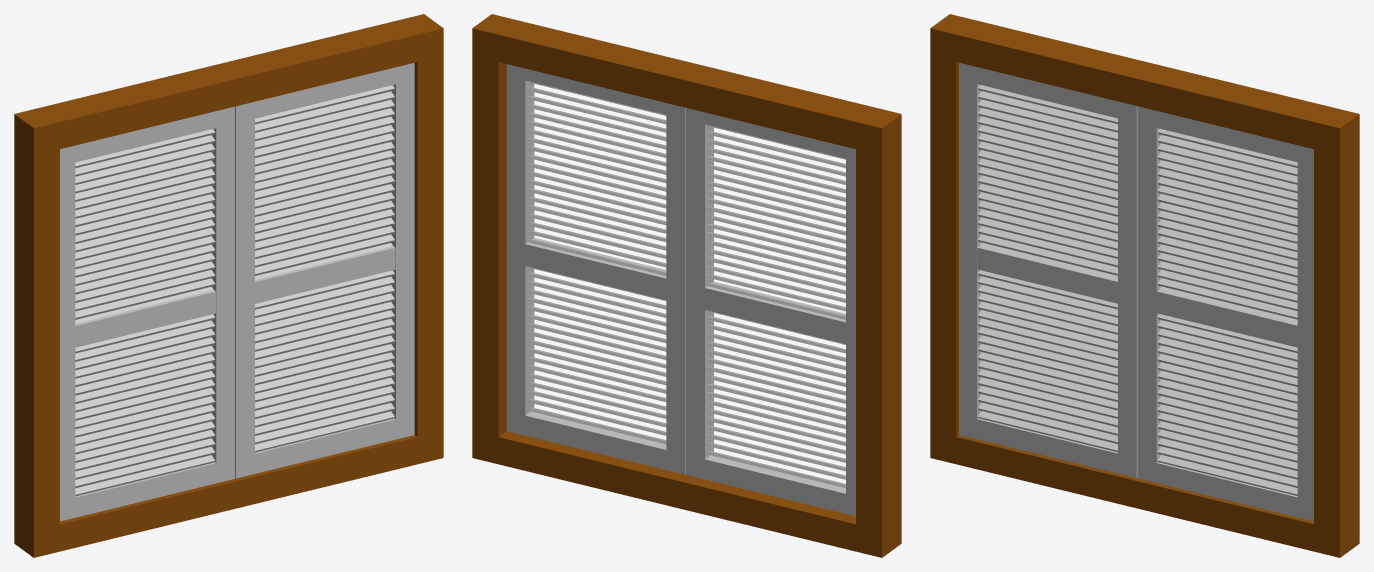
File: Persiane.fbx
3 views of the same model, side by side, from view 1: azimuth 30°, elevation 25°; view 2: azimuth 150°, elevation 25°; view 3: azimuth 330°, elevation 25° (orthographic).
Visible parts, largest first — view 1: Cubo_1_3_3, Cubo_1, Cubo_1_2_3, mid_2, mid, Cubo_2_3, Cubo_2_2, Cubo_1_25_2, Cubo_1_38_2, Cubo_1_13_2, Cubo_1_6_2, Cubo_1_21_2 (+72 smaller); view 2: Cubo_1_3_3, Cubo_1, Cubo_1_2_3, Cubo_2_3, mid, mid_2, Cubo_2, Cubo_2_2, Cubo_1_14, Cubo_1_31, Cubo_1_2, Cubo_1_7 (+68 smaller); view 3: Cubo_1_3_3, Cubo_1_2_3, Cubo_1, mid, mid_2, Cubo_2_3, Cubo_2, Cubo_1_25, Cubo_1_38, Cubo_1_13, Cubo_1_22, Cubo_1_3 (+72 smaller).
Boxes of the visible parts, box(x1,y1,x2,y2) form: Cubo_1_3_3: box(14, 14, 443, 557); Cubo_1: box(235, 63, 414, 478); Cubo_1_2_3: box(60, 106, 234, 521); mid_2: box(75, 290, 215, 347); mid: box(255, 246, 395, 303); Cubo_2_3: box(60, 62, 417, 524); Cubo_2_2: box(75, 128, 216, 497); Cubo_1_25_2: box(75, 244, 215, 285); Cubo_1_38_2: box(75, 135, 215, 176); Cubo_1_13_2: box(75, 345, 215, 386); Cubo_1_6_2: box(75, 404, 215, 445); Cubo_1_21_2: box(75, 278, 215, 319); Cubo_1_3_3: box(472, 14, 901, 557); Cubo_1: box(506, 64, 685, 474); Cubo_1_2_3: box(686, 108, 855, 516); Cubo_2_3: box(498, 62, 855, 524); mid: box(508, 237, 680, 303); mid_2: box(688, 281, 855, 346); Cubo_2: box(525, 80, 666, 449); Cubo_2_2: box(705, 124, 845, 493); Cubo_1_14: box(526, 289, 666, 326); Cubo_1_31: box(526, 146, 666, 183); Cubo_1_2: box(526, 390, 666, 427); Cubo_1_7: box(526, 348, 666, 385); Cubo_1_3_3: box(930, 14, 1359, 557); Cubo_1_2_3: box(959, 62, 1137, 478); Cubo_1: box(1137, 106, 1313, 521); mid: box(1156, 290, 1297, 347); mid_2: box(977, 246, 1117, 303); Cubo_2_3: box(956, 62, 1313, 524); Cubo_2: box(1156, 128, 1297, 497); Cubo_1_25: box(1157, 244, 1297, 285); Cubo_1_38: box(1157, 135, 1297, 176); Cubo_1_13: box(1157, 345, 1297, 386); Cubo_1_22: box(1157, 269, 1297, 310); Cubo_1_3: box(1157, 429, 1297, 470).
Bounding box in the file's own units: 153 × 153 × 12.66.
